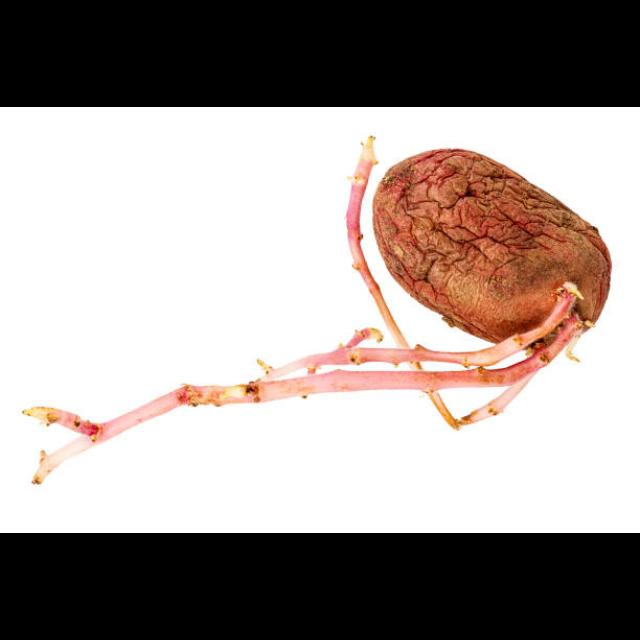Sprouted potato: (284, 132, 620, 460)
